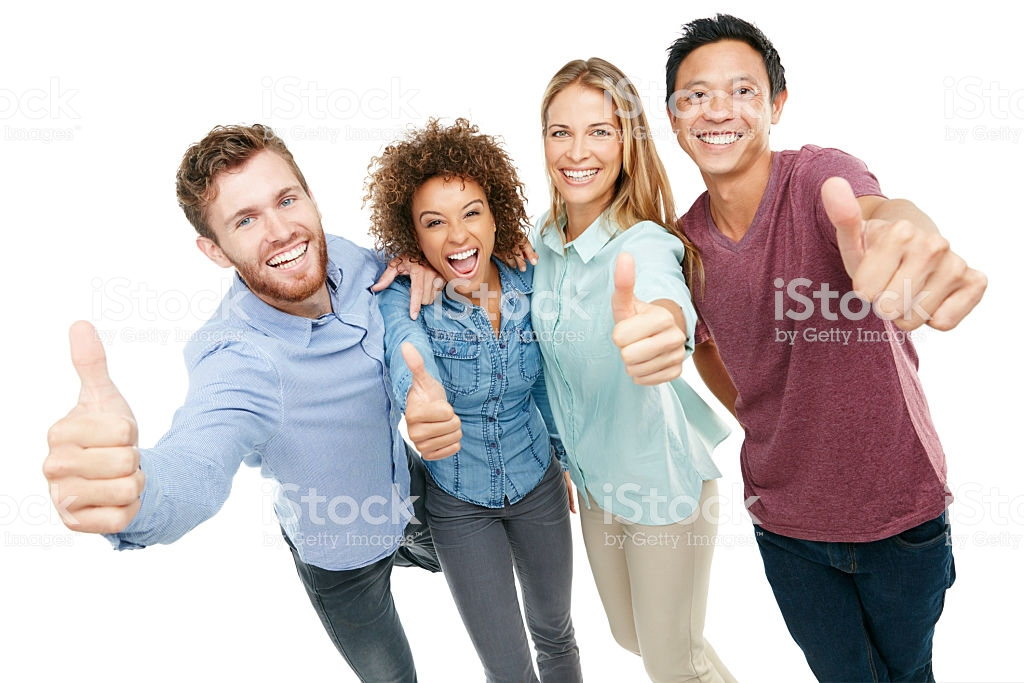thumbsup: (819, 174, 989, 333), (38, 317, 150, 537), (608, 249, 688, 386), (398, 338, 465, 462)
